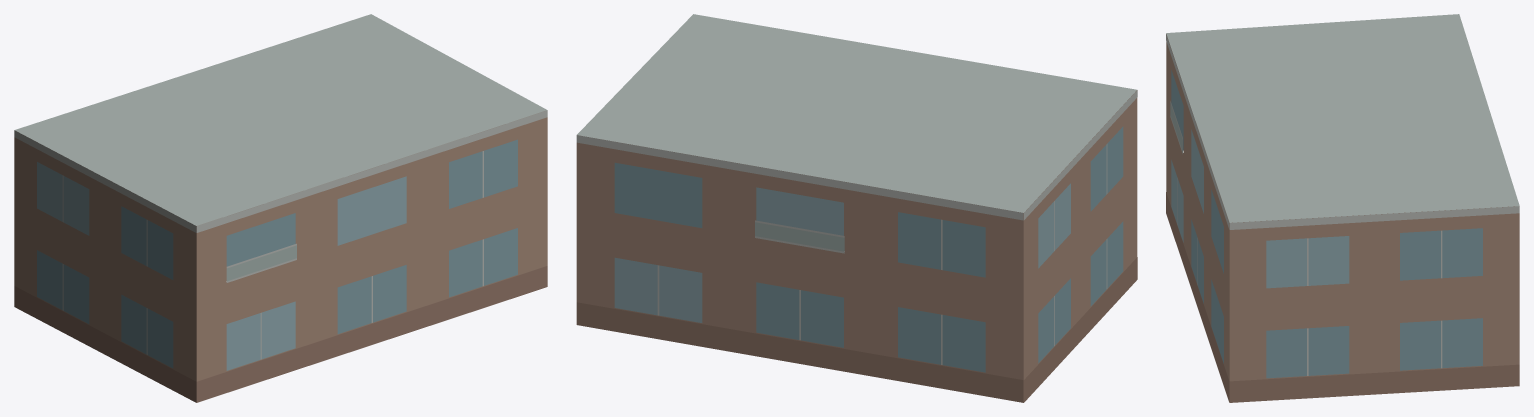
File: survey-upis-32705942.glb
3 views of the same model, side by side, from view 1: azimuth 30°, elevation 25°; view 2: azimuth 150°, elevation 25°; view 3: azimuth 270°, elevation 25° (orthographic). The views are drawn at different scales.
Parts seen in each view (by area): view 1: survey-upis-32705942.tmp; view 2: survey-upis-32705942.tmp; view 3: survey-upis-32705942.tmp.
Boxes of the visible parts, <box> form: survey-upis-32705942.tmp: <box>14,14,547,402</box>; survey-upis-32705942.tmp: <box>576,14,1137,402</box>; survey-upis-32705942.tmp: <box>1166,14,1519,402</box>.
Size of the model in its own units: 15.19 by 6.1 by 10.87.
